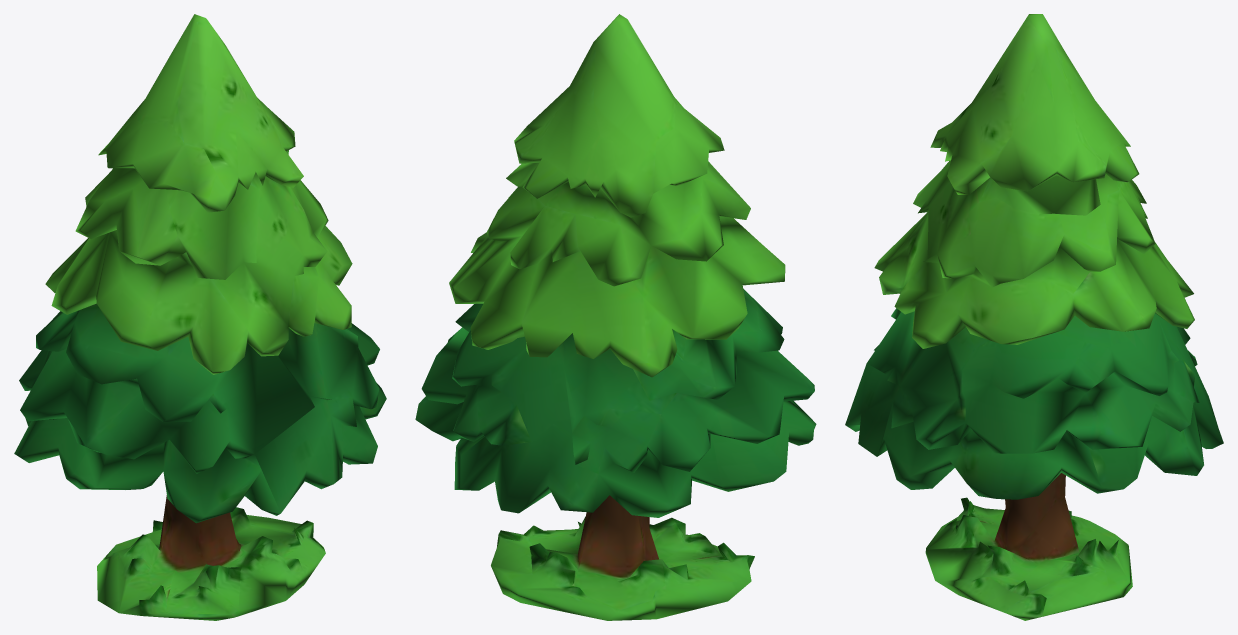
File: tree.glb
3 views of the same model, side by side, from view 1: azimuth 30°, elevation 25°; view 2: azimuth 150°, elevation 25°; view 3: azimuth 270°, elevation 25° (orthographic). The views are drawn at different scales.
Parts seen in each view (by area): view 1: tripo_node_d15887a0-04fd-4b27-a97d-47e33a7abf64; view 2: tripo_node_d15887a0-04fd-4b27-a97d-47e33a7abf64; view 3: tripo_node_d15887a0-04fd-4b27-a97d-47e33a7abf64.
Boxes of the visible parts, box(x1,y1,x2,y2) form: tripo_node_d15887a0-04fd-4b27-a97d-47e33a7abf64: box(14, 14, 386, 620); tripo_node_d15887a0-04fd-4b27-a97d-47e33a7abf64: box(415, 14, 816, 620); tripo_node_d15887a0-04fd-4b27-a97d-47e33a7abf64: box(845, 14, 1223, 620).
Bounding box in the file's own units: 0.6514 × 1 × 0.6252.
Materials: 1 (1 with a texture image).
